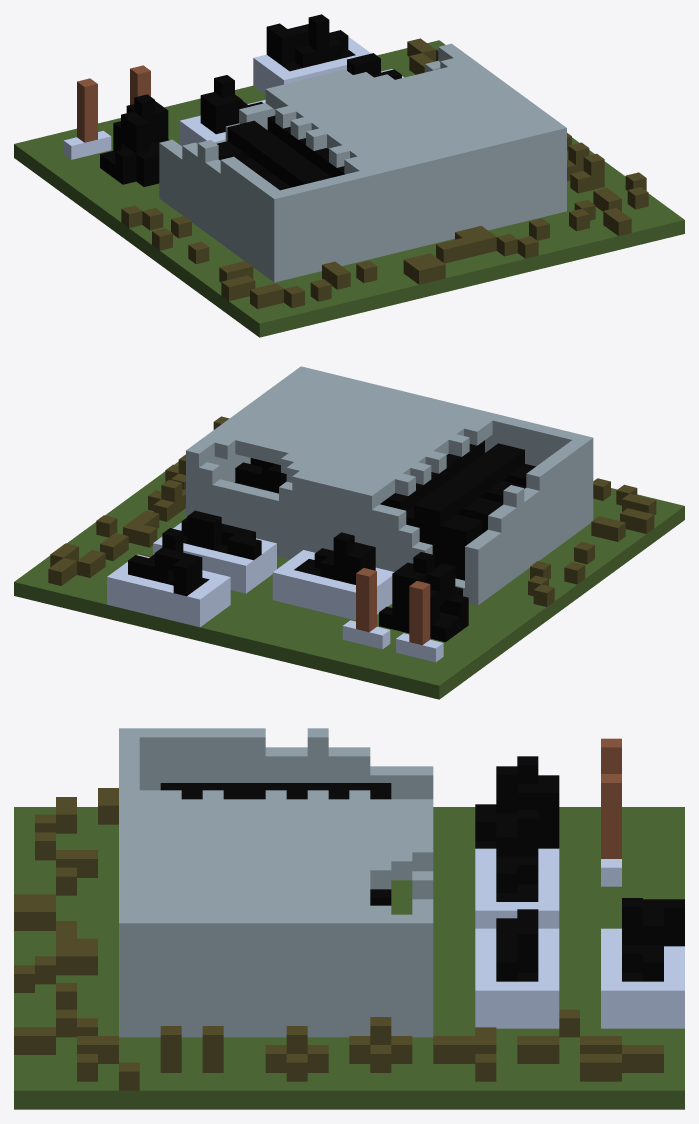
The model's file is charcoal_maker_2.obj.
3 renders of one model, top to bottom at view 1: azimuth 30°, elevation 25°; view 2: azimuth 150°, elevation 25°; view 3: azimuth 270°, elevation 25°, orthographic. The views are drawn at different scales.
Bounding box in the file's own units: 3.2 × 0.7 × 3.2.
Materials: 1 (1 with a texture image).
